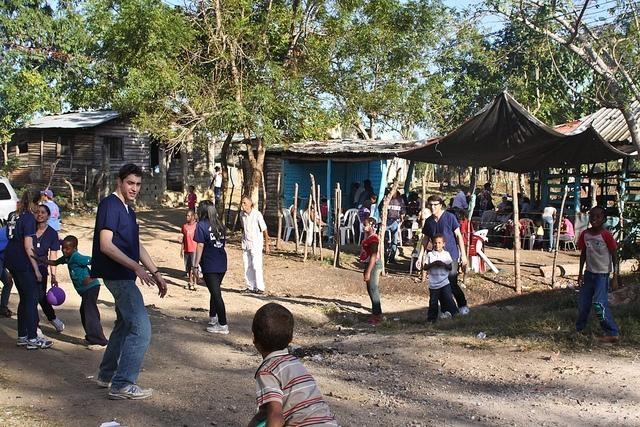car: (0, 178, 17, 220)
